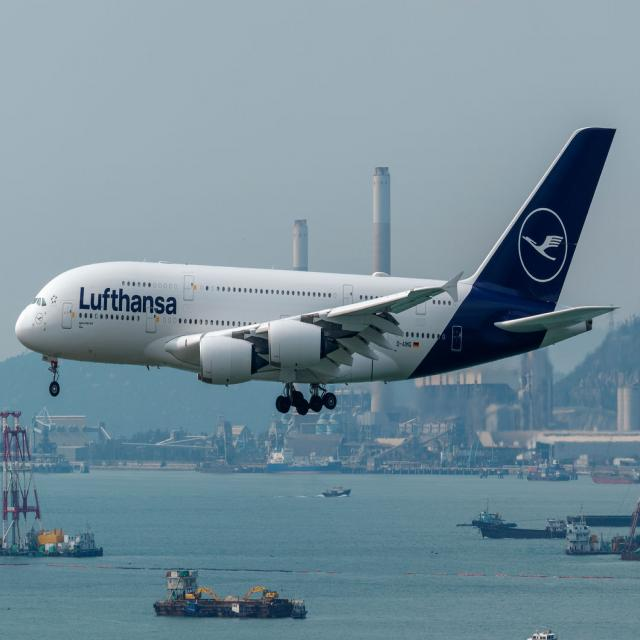A380: (15, 136, 601, 415)
